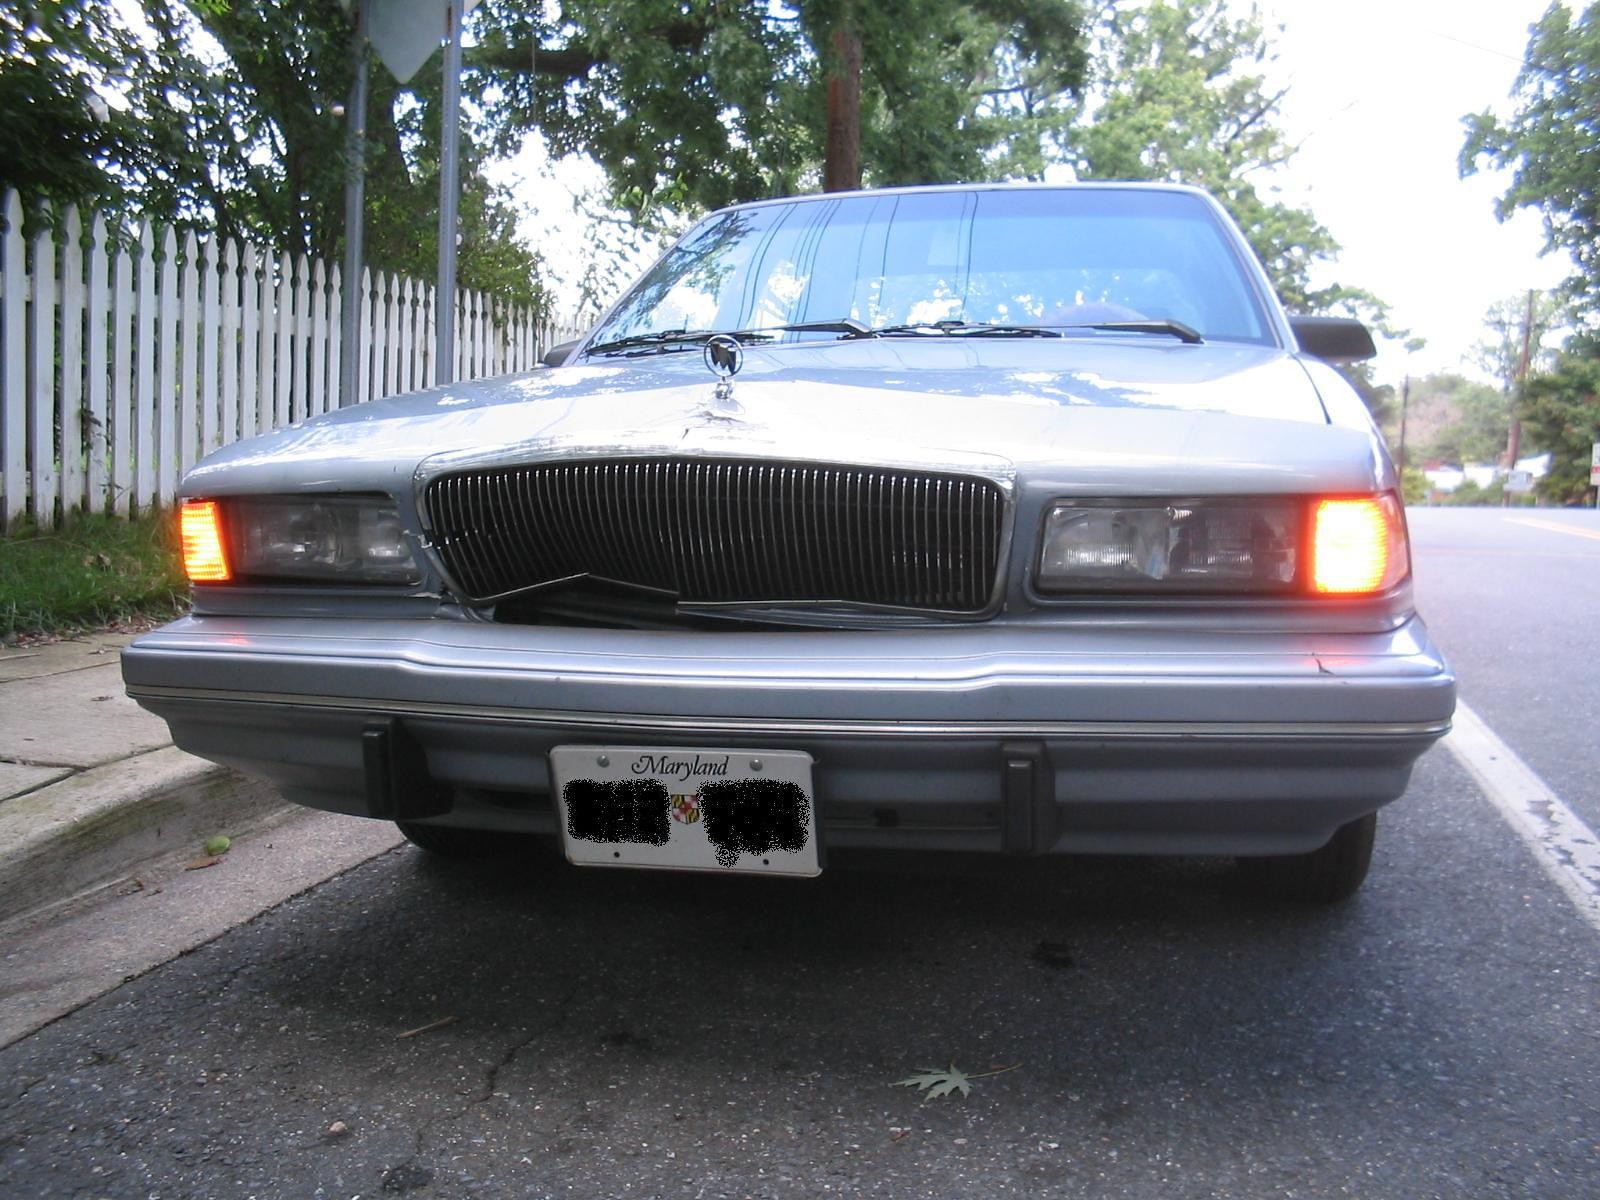front-bumper-dent: (157, 442, 1369, 816)
